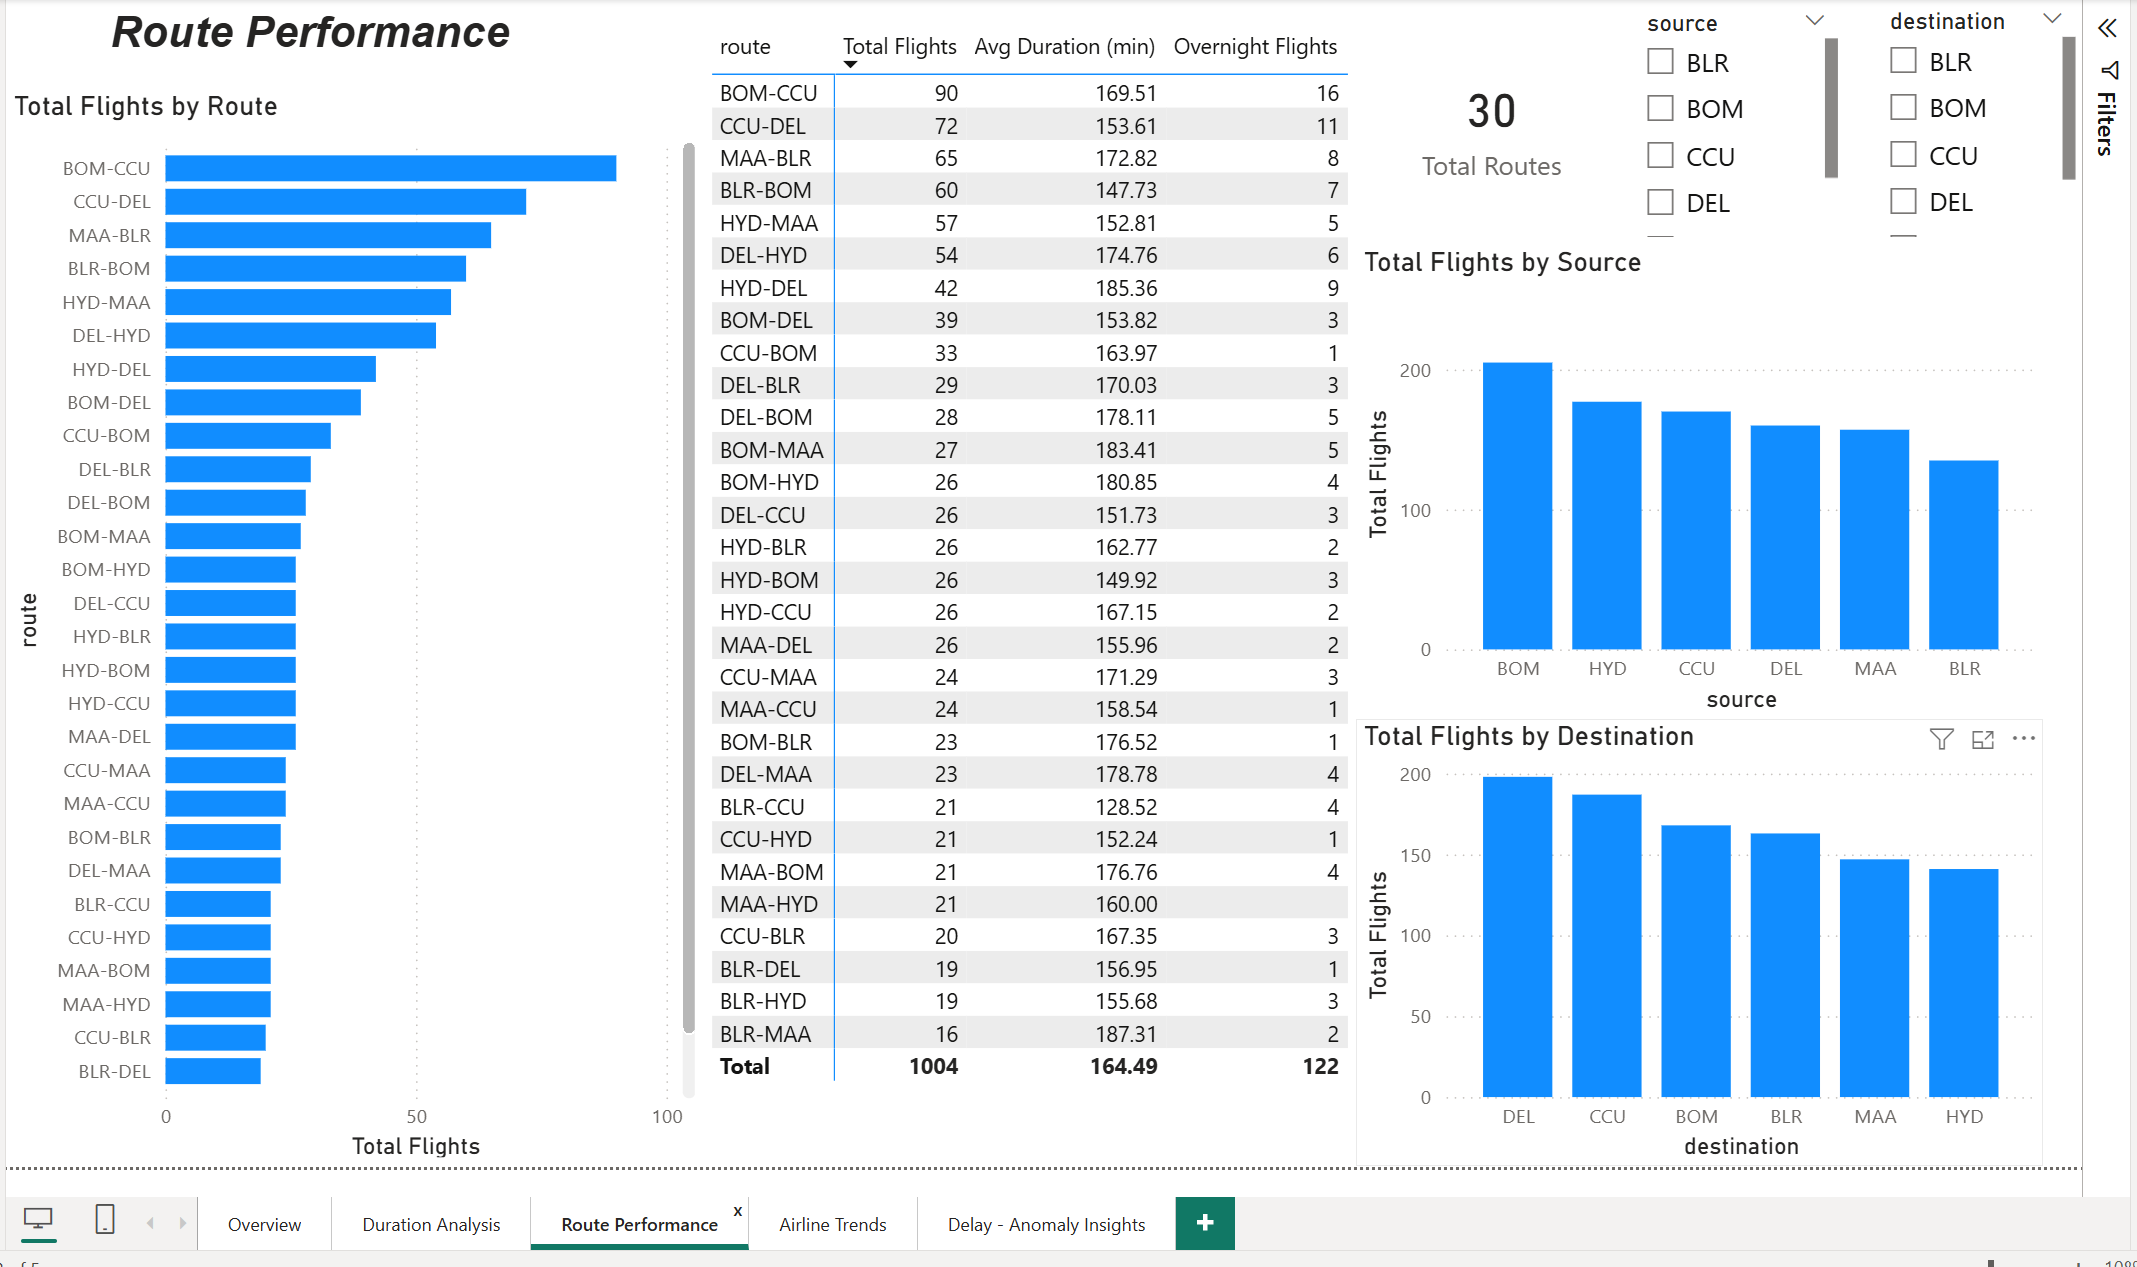

The page's visual inventory and layout, read from the dashboard file:
{"tool":"powerbi","page":{"name":"Route Performance","canvas":[1280,720],"ordinal":2},"visuals":[{"type":"textbox","box":[0,0,397.4,55.6],"z":0},{"type":"barChart","title":"Total Flights by Route","fields":{"Category":["flights_cleaned.route"],"Y":["flights_cleaned.Total Flights"]},"box":[0,55.6,429.9,664],"z":1000},{"type":"pivotTable","fields":{"Rows":["flights_cleaned.route"],"Values":["flights_cleaned.Total Flights","flights_cleaned.Avg Duration (min)","flights_cleaned.Overnight Flights"]},"box":[429.9,12.7,402.1,690.6],"z":2000},{"type":"clusteredColumnChart","title":"Total Flights by Source","fields":{"Category":["flights_cleaned.source"],"Y":["flights_cleaned.Total Flights"]},"box":[832,151.8,424.1,292],"z":3000},{"type":"clusteredColumnChart","title":"Total Flights by Destination","fields":{"Category":["flights_cleaned.destination"],"Y":["flights_cleaned.Total Flights"]},"box":[832,443.8,424.1,275.8],"z":4000},{"type":"card","fields":{"Values":["flights_cleaned.Total Routes"]},"box":[832,2.3,166.9,149.5],"z":5000},{"type":"slicer","fields":{"Values":["flights_cleaned.source"]},"box":[998.8,1.2,135.6,150.6],"z":6000},{"type":"slicer","fields":{"Values":["flights_cleaned.destination"]},"box":[1148.3,0,132.1,151.8],"z":7000}]}

Visuals, with their boxes on the page's 1280x720 design canvas (x1, y1, x2, y2). These are canvas units, not pixel positions in the 2137x1267 screenshot, which may show the page scaled, cropped or inside an application window:
textbox: left=0, top=0, right=397, bottom=56
"Total Flights by Route" barChart: left=0, top=56, right=430, bottom=720
pivotTable - flights_cleaned.route x flights_cleaned.Total Flights: left=430, top=13, right=832, bottom=703
"Total Flights by Source" clusteredColumnChart: left=832, top=152, right=1256, bottom=444
"Total Flights by Destination" clusteredColumnChart: left=832, top=444, right=1256, bottom=720
card - flights_cleaned.Total Routes: left=832, top=2, right=999, bottom=152
slicer - flights_cleaned.source: left=999, top=1, right=1134, bottom=152
slicer - flights_cleaned.destination: left=1148, top=0, right=1280, bottom=152
